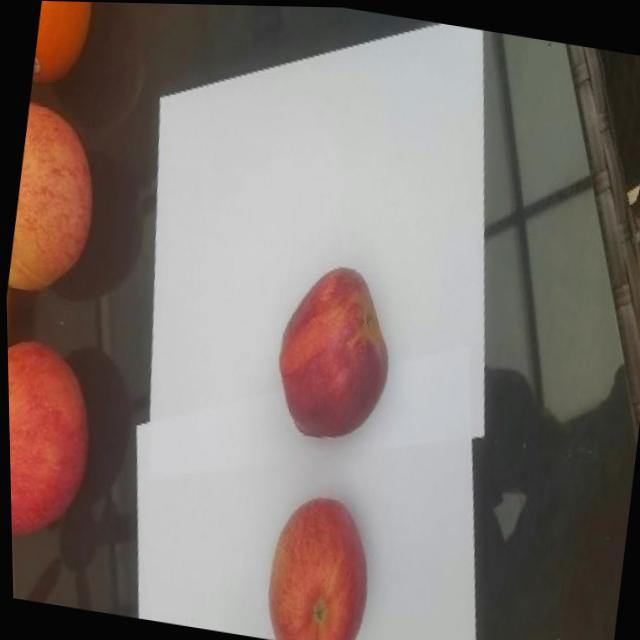Apple: (264, 256, 401, 446), (3, 100, 107, 301), (6, 335, 101, 546), (256, 487, 377, 640)
Orange: (30, 1, 99, 90)
